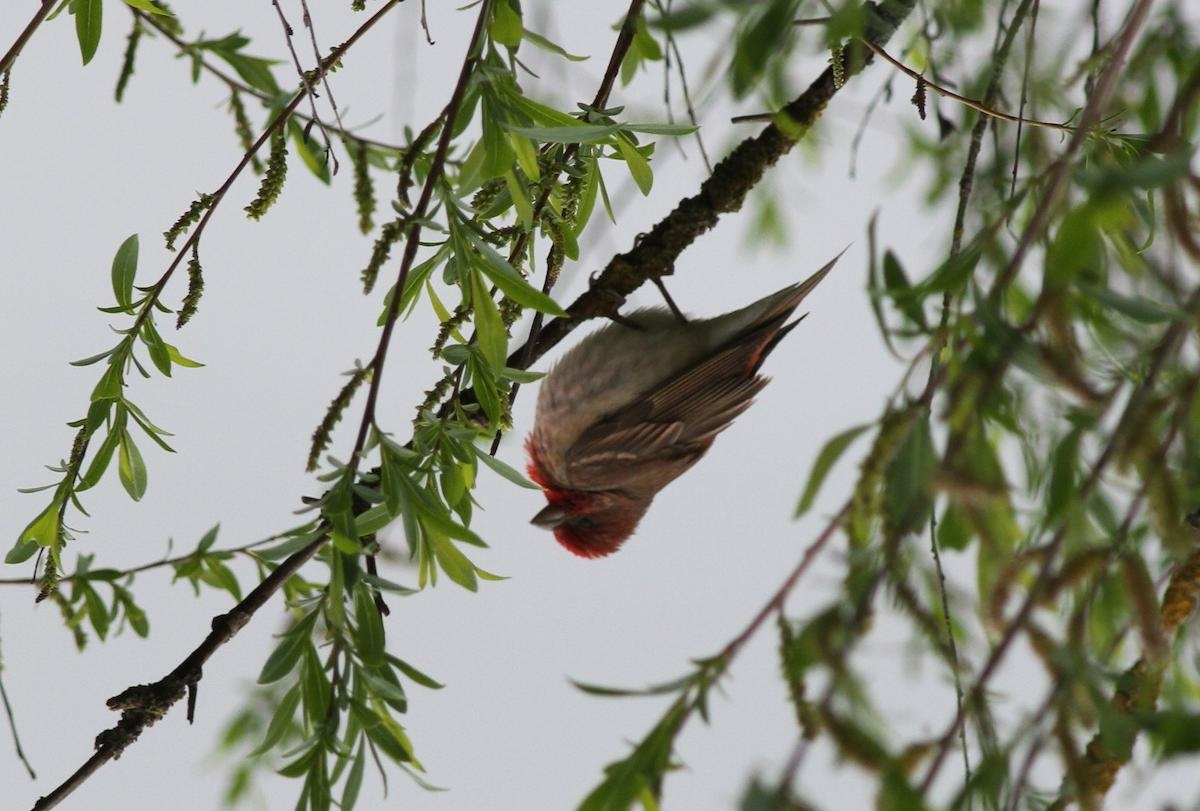rosefinch: (534, 285, 773, 591)
